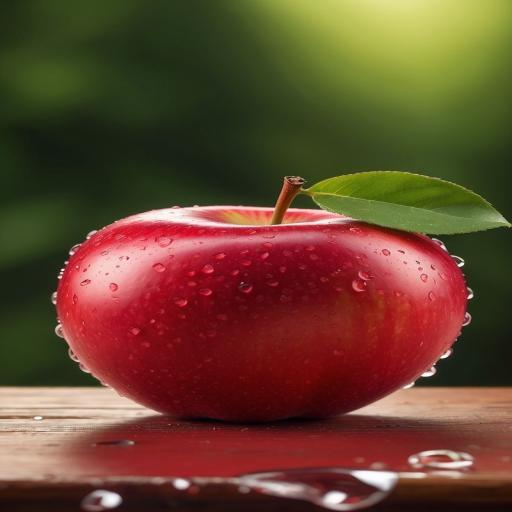apple: (57, 207, 467, 421)
